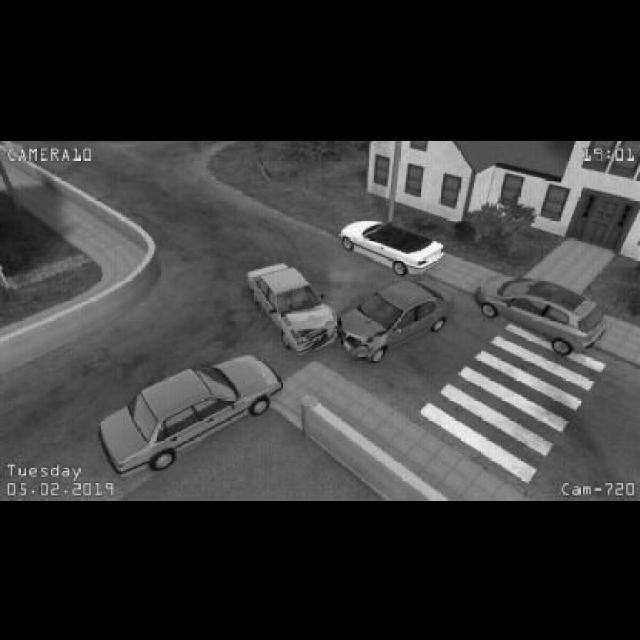accident: (247, 251, 453, 362)
vehicle: (93, 354, 285, 479), (474, 266, 608, 358), (341, 212, 447, 278)
